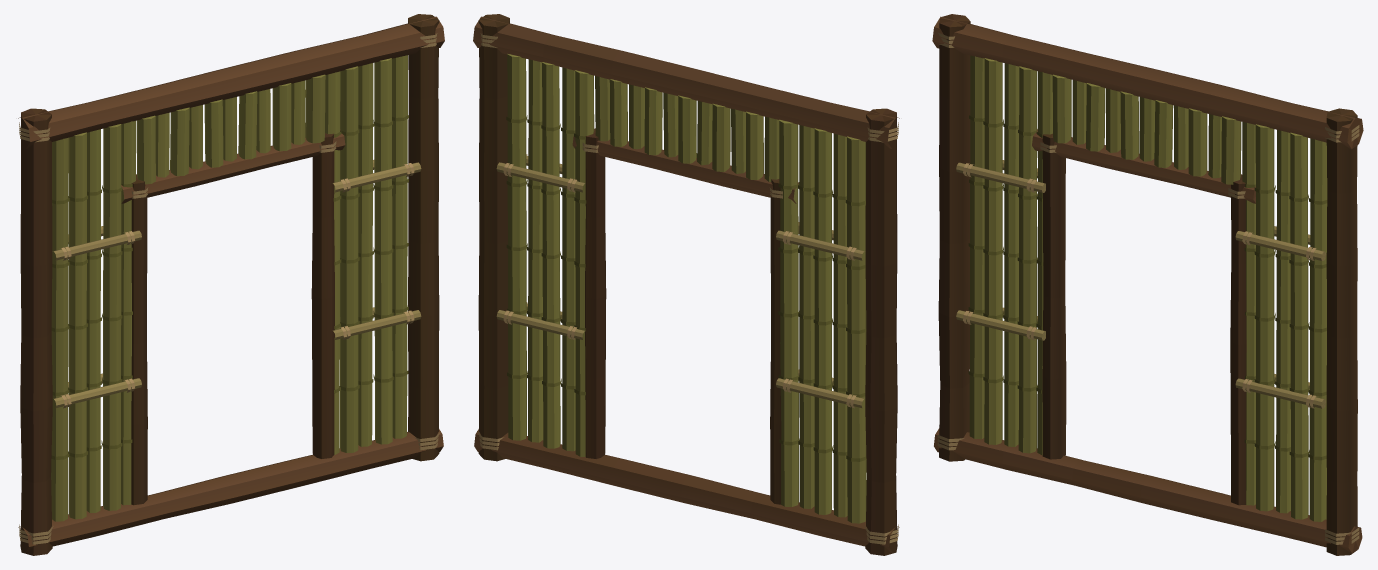
The model's file is doorway.glb.
The picture shows the model from 3 angles, left to right: view 1: azimuth 30°, elevation 25°; view 2: azimuth 150°, elevation 25°; view 3: azimuth 330°, elevation 25°; orthographic projection.
Parts seen in each view (by area): view 1: b_doorway_solid; view 2: b_doorway_solid; view 3: b_doorway_solid.
Part boxes in pixels (x1,y1,x2,y2): b_doorway_solid: [18, 14, 444, 555]; b_doorway_solid: [473, 14, 899, 555]; b_doorway_solid: [932, 14, 1363, 555].
Size of the model in its own units: 3.01 by 3 by 0.2519.
